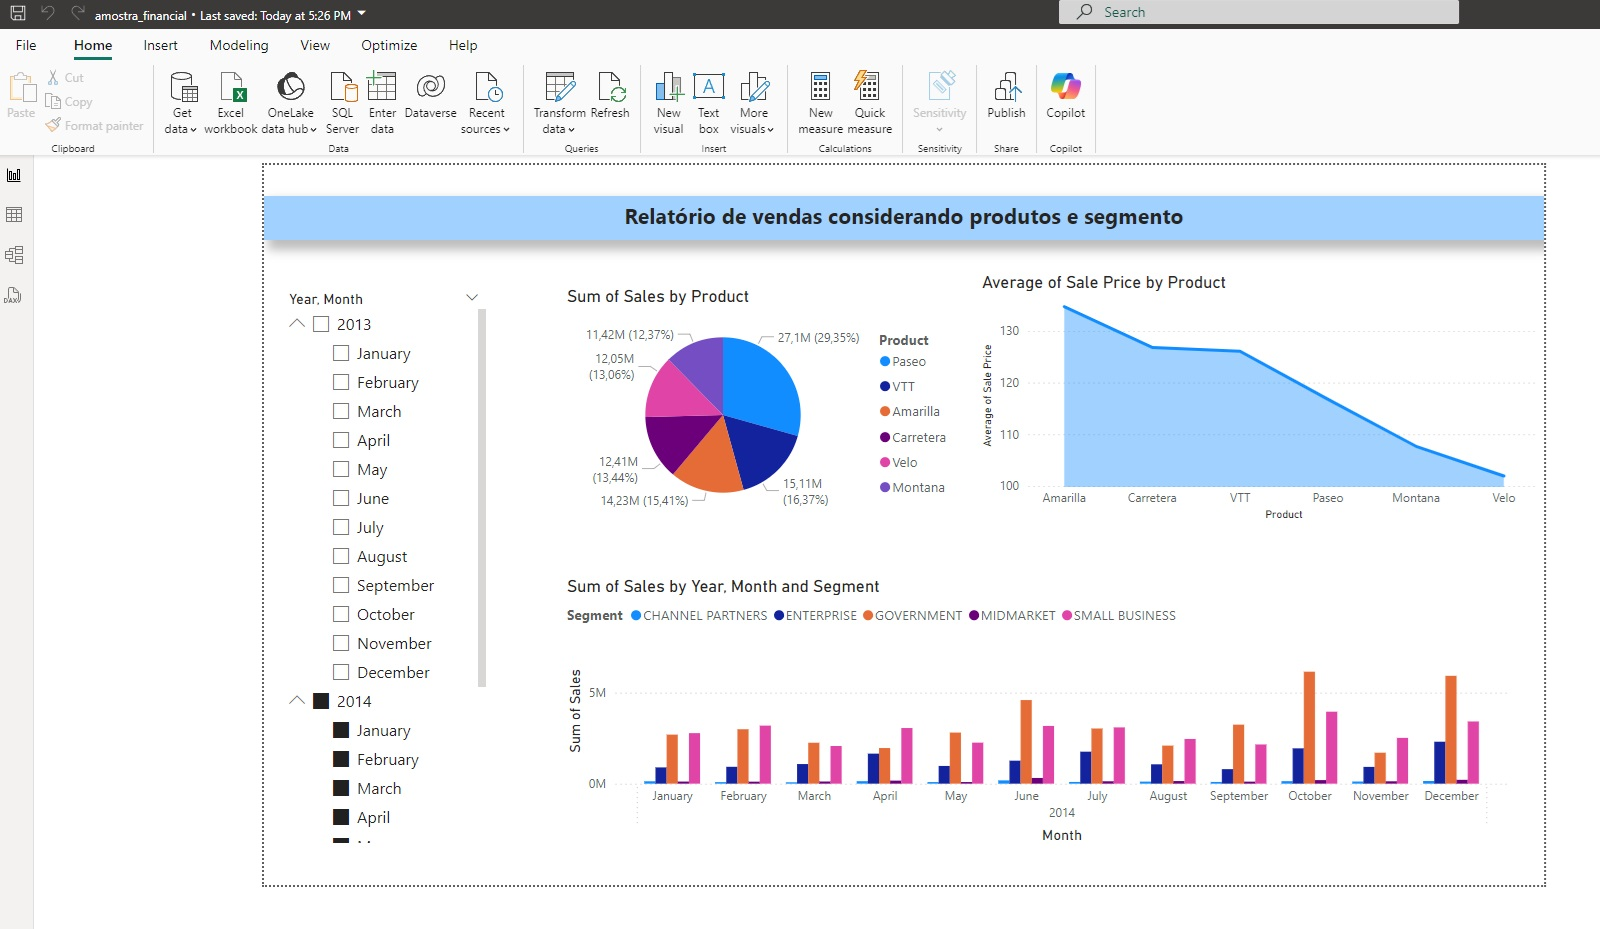

The dashboard page shown, as its layout file describes it:
{"tool":"powerbi","page":{"name":"Page 1","canvas":[1280,720],"ordinal":0},"visuals":[{"type":"pieChart","fields":{"Category":["financials.Product"],"Y":["Sum(financials. Sales)"]},"box":[298.2,120.9,398.5,239.1],"z":0},{"type":"areaChart","fields":{"Category":["financials.Product"],"Y":["Avg(financials.Sale Price)"]},"box":[712.8,106.6,566.9,253.4],"z":1000},{"type":"clusteredColumnChart","fields":{"Category":["financials.Date.Variation.Date Hierarchy.Year","financials.Date.Variation.Date Hierarchy.Month"],"Y":["Sum(financials. Sales)"],"Series":["financials.Segment"]},"box":[298.2,411,951,272.2],"z":2000},{"type":"slicer","fields":{"Values":["financials.Date.Variation.Date Hierarchy.Year","financials.Date.Variation.Date Hierarchy.Month"]},"box":[11.6,120.9,214.9,562.4],"z":3000},{"type":"textbox","box":[0,31.3,1279.7,43.9],"z":4000}]}

Visuals, with their boxes on the page's 1280x720 design canvas (x1, y1, x2, y2). These are canvas units, not pixel positions in the 1600x929 screenshot, which may show the page scaled, cropped or inside an application window:
pieChart - financials.Product x Sum(financials. Sales): rect(298, 121, 697, 360)
areaChart - financials.Product x Avg(financials.Sale Price): rect(713, 107, 1280, 360)
clusteredColumnChart - financials.Date.Variation.Date Hierarchy.Year x financials.Date.Variation.Date Hierarchy.Month: rect(298, 411, 1249, 683)
slicer - financials.Date.Variation.Date Hierarchy.Year x financials.Date.Variation.Date Hierarchy.Month: rect(12, 121, 226, 683)
textbox: rect(0, 31, 1280, 75)
